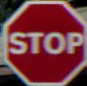Stop: (5, 3, 84, 78)
